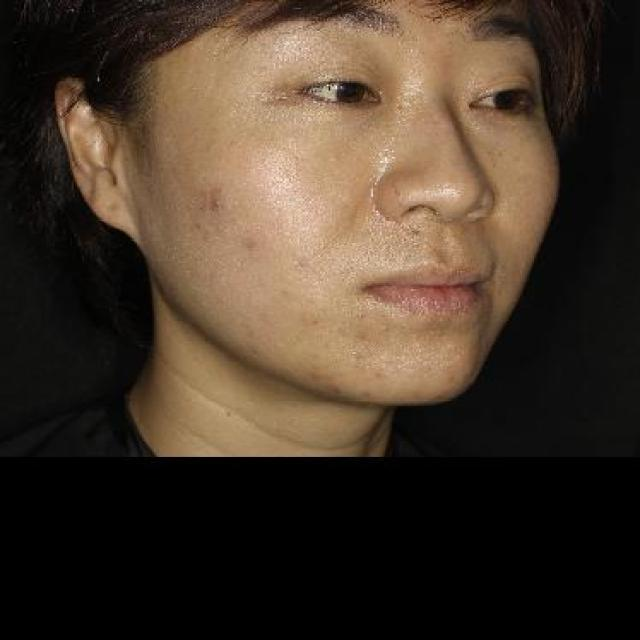Acne: (236, 230, 262, 252)
Whiteheads: (203, 190, 234, 216)
